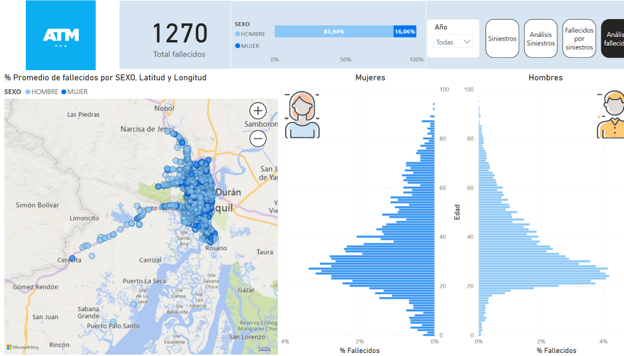

The dashboard page shown, as its layout file describes it:
{"tool":"powerbi","page":{"name":"Análisis fallecidos","canvas":[1280,720],"ordinal":3},"visuals":[{"type":"shape","box":[235.7,5.5,1044.3,137.2],"z":0},{"type":"pageNavigator","box":[968.5,42.8,298.4,78.3],"z":1000},{"type":"map","fields":{"Y":["Data.LATITUD_Y"],"X":["Data.LONGITUD_X"],"Size":["Sum(Data.FALLECIDOS)"],"Series":["Data.SEXO"]},"box":[0,149.6,568.1,570.8],"z":2000},{"type":"clusteredBarChart","title":"Hombres","fields":{"Y":["Sum(Data.FALLECIDOS)"],"Category":["Data.EDAD"]},"box":[897.4,149.6,382.8,570.8],"z":3000},{"type":"clusteredBarChart","title":"Mujeres","fields":{"Y":["Sum(Data.FALLECIDOS)"],"Category":["Data.EDAD"]},"box":[553,149.6,370.5,570.8],"z":4000},{"type":"card","fields":{"Values":["Sum(Data.FALLECIDOS)"]},"box":[281.3,5.5,148.2,137.2],"z":5000},{"type":"slicer","fields":{"Values":["Data.ANIO"]},"box":[850.8,42.8,106.3,78.2],"z":6000},{"type":"hundredPercentStackedBarChart","fields":{"Y":["Sum(Data.FALLECIDOS)"],"Series":["Data.SEXO"]},"box":[458.3,5.5,392.5,137.2],"z":7000},{"type":"image","box":[1175.1,181,105.2,107.6],"z":8000},{"type":"image","box":[546.6,181,110.1,107.6],"z":9000},{"type":"image","box":[0,0,236,150],"z":10000}]}

Visuals, with their boxes on the page's 1280x720 design canvas (x1, y1, x2, y2). These are canvas units, not pixel positions in the 624x356 screenshot, which may show the page scaled, cropped or inside an application window:
shape: box(236, 6, 1280, 143)
pageNavigator: box(968, 43, 1267, 121)
map - Data.LATITUD_Y x Data.LONGITUD_X: box(0, 150, 568, 720)
"Hombres" clusteredBarChart: box(897, 150, 1280, 720)
"Mujeres" clusteredBarChart: box(553, 150, 924, 720)
card - Sum(Data.FALLECIDOS): box(281, 6, 430, 143)
slicer - Data.ANIO: box(851, 43, 957, 121)
hundredPercentStackedBarChart - Sum(Data.FALLECIDOS) x Data.SEXO: box(458, 6, 851, 143)
image: box(1175, 181, 1280, 289)
image: box(547, 181, 657, 289)
image: box(0, 0, 236, 150)
